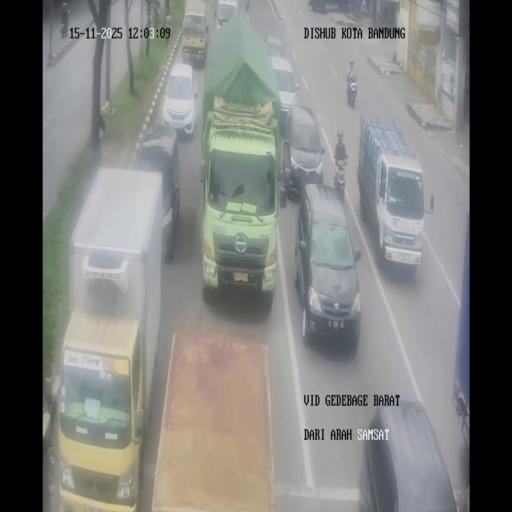car: (295, 183, 362, 348), (286, 105, 324, 201), (162, 61, 198, 139), (270, 51, 297, 130), (215, 0, 238, 29), (267, 36, 284, 60)
motorcycle: (334, 156, 346, 198), (347, 75, 357, 108)
truck: (56, 165, 166, 505), (197, 18, 283, 306), (150, 329, 276, 512), (357, 116, 427, 270), (181, 0, 211, 67)
